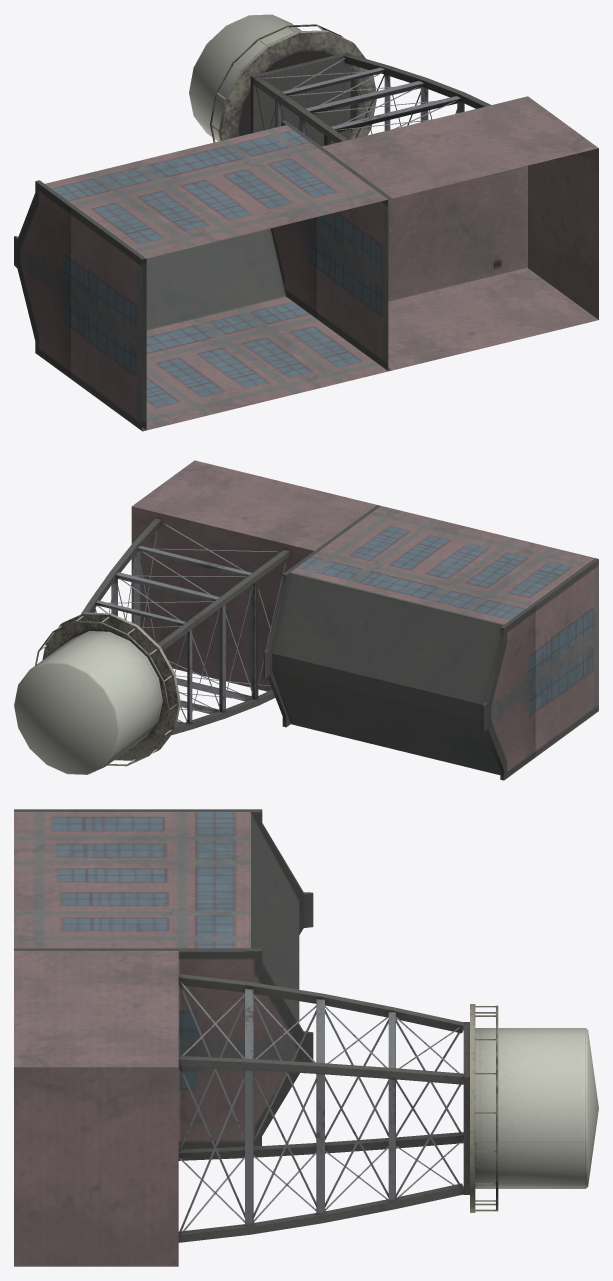
Rendered from house_middle_watertank.fbx.
3 renders of one model, top to bottom at view 1: azimuth 30°, elevation 25°; view 2: azimuth 150°, elevation 25°; view 3: azimuth 270°, elevation 25°, orthographic. The views are drawn at different scales.
Visible parts, largest first — view 1: house_middle_004; view 2: house_middle_004; view 3: house_middle_004.
Boxes of the visible parts, x1,y1,x2,y2 form: house_middle_004: [14, 14, 598, 431]; house_middle_004: [14, 460, 598, 780]; house_middle_004: [14, 809, 598, 1266].
Size of the model in its own units: 896 by 322 by 858.
